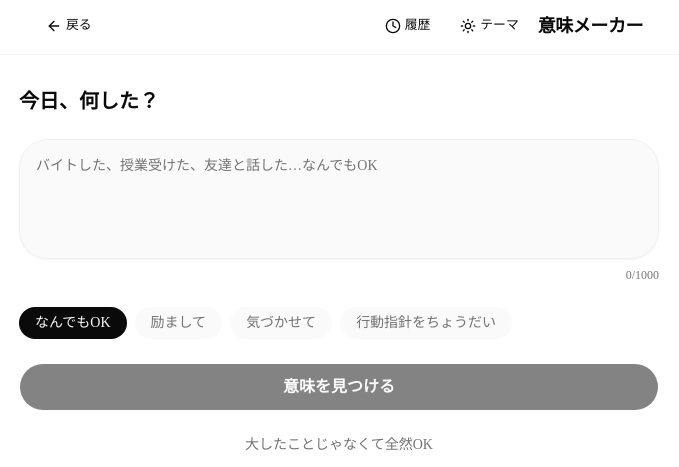
Test case: 入力ページ › テキスト入力後に送信ボタンが有効になる
The width and height of the screenshot is (679, 467).
Type "バイトした" into the text box named "今日やったこと" at (339, 199), box top-left (19, 139), bottom-right (659, 259)
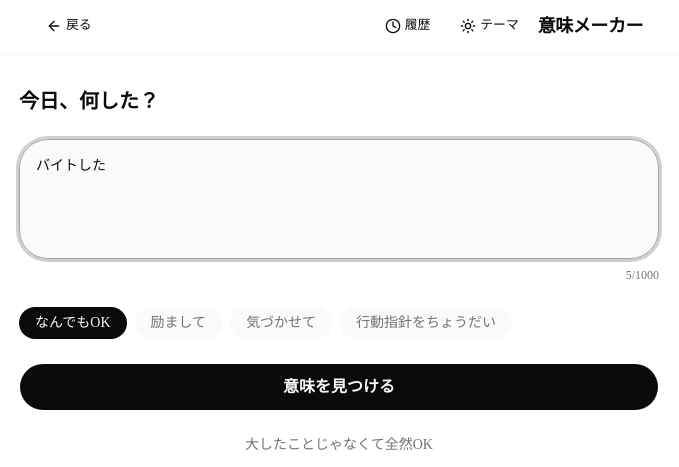
Expected: the button "意味を見つける" is enabled, top-left (19, 363), bottom-right (659, 411)
